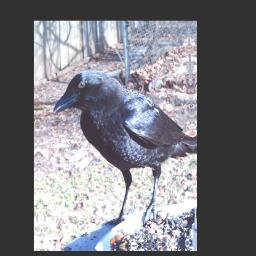Crow: (51, 65, 196, 231)
